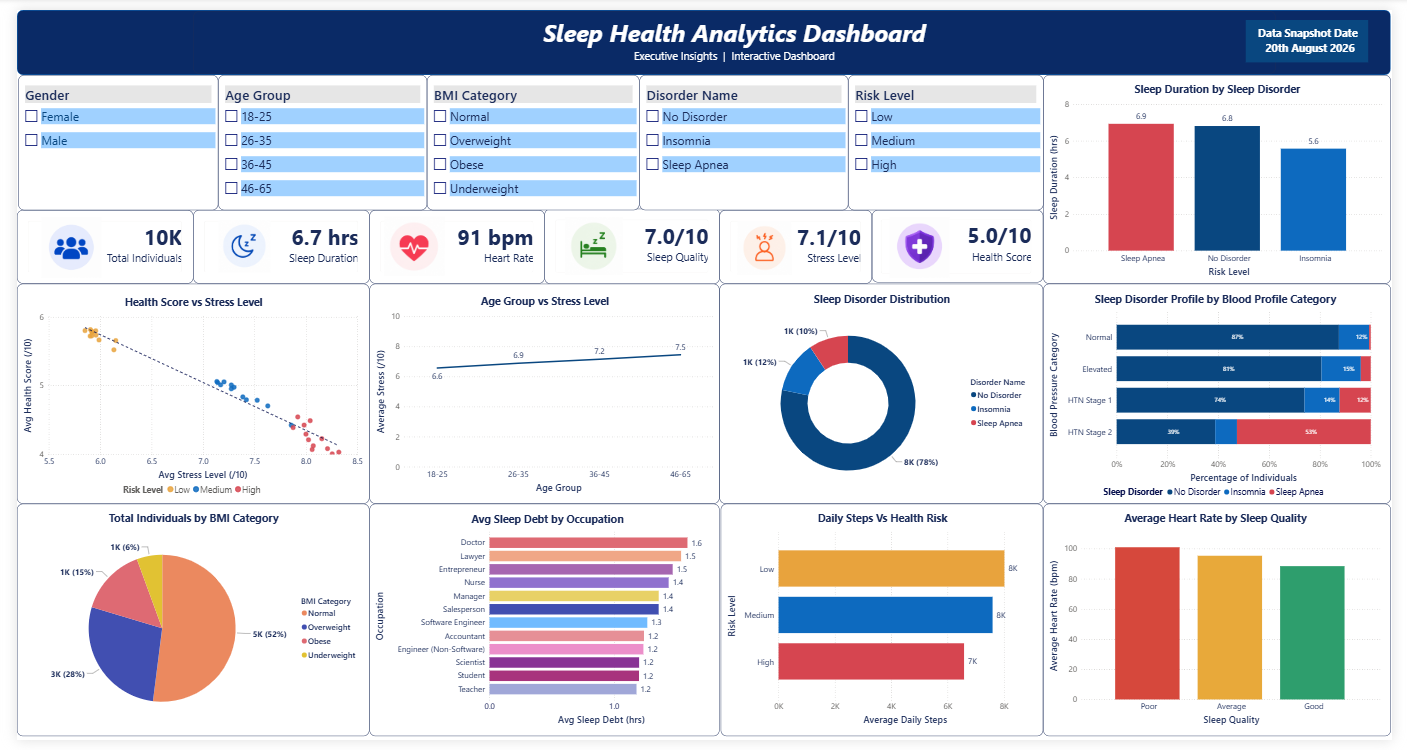

The page's visual inventory and layout, read from the dashboard file:
{"tool":"powerbi","page":{"name":"Page 1","canvas":[2750,1460],"ordinal":0},"visuals":[{"type":"cardVisual","fields":{"Data":["Fact_SleepHealth.Total Individuals"]},"box":[0,400,352.5,147.5],"z":0},{"type":"shape","box":[0,0,2747.5,130],"z":1000},{"type":"textbox","box":[352.5,2.5,2165,125],"z":2000},{"type":"donutChart","title":"Sleep Disorder Distribution","fields":{"Category":["Dim_SleepDisorder.Disorder_Name"],"Y":["Fact_SleepHealth.Total Individuals"]},"box":[1405,547.5,647.5,440],"z":3000},{"type":"clusteredBarChart","title":"Daily Steps Vs Health Risk","fields":{"Category":["Dim_HealthRiskLevel.Risk_Level_Name"],"Y":["Dim_AgeGroup.Average Daily Steps"]},"box":[1407.5,987.5,645,465],"z":4000},{"type":"lineChart","title":"Age Group vs Stress Level","fields":{"Category":["Dim_AgeGroup.Age_Group"],"Y":["Dim_AgeGroup.Average Stress"]},"box":[705,547.5,700,440],"z":5000},{"type":"pieChart","title":"Total Individuals by BMI Category","fields":{"Category":["Dim_BMI.BMI_Category"],"Y":["Fact_SleepHealth.Total Individuals"]},"box":[0,987.5,705,465],"z":6000},{"type":"columnChart","title":"Sleep Duration by Sleep Disorder","fields":{"Category":["Dim_SleepDisorder.Disorder_Name"],"Y":["Fact_SleepHealth.Avg Sleep Duration"]},"box":[2052.5,130,695,417.5],"z":7000},{"type":"cardVisual","fields":{"Data":["Dim_AgeGroup.Sleep Quality"]},"box":[1055,397.5,350,150],"z":8000},{"type":"cardVisual","fields":{"Data":["Dim_AgeGroup.Stress Level"]},"box":[1405,400,305,147.5],"z":9000},{"type":"cardVisual","fields":{"Data":["Dim_AgeGroup.Heart Rate"]},"box":[705,400,350,147.5],"z":10000},{"type":"image","box":[735,387.5,120,170],"z":11000},{"type":"image","box":[1305,422.5,380,107.5],"z":12000},{"type":"image","box":[245,602.5,107.5,102.5],"z":13000},{"type":"image","box":[40,415,137.5,120],"z":14000},{"type":"image","box":[1077.5,415,152.5,115],"z":15000},{"type":"slicer","fields":{"Values":["Dim_Gender.Gender"]},"box":[2.5,130,400,270],"z":16000},{"type":"slicer","fields":{"Values":["Dim_AgeGroup.Age_Group"]},"box":[402.5,130,417.5,270],"z":17000},{"type":"slicer","fields":{"Values":["Dim_BMI.BMI_Category"]},"box":[820,130,425,270],"z":18000},{"type":"slicer","fields":{"Values":["Dim_SleepDisorder.Disorder_Name"]},"box":[1245,130,417.5,270],"z":19000},{"type":"slicer","fields":{"Values":["Dim_HealthRiskLevel.Risk_Level_Name"]},"box":[1662.5,130,390,270],"z":20000},{"type":"textbox","box":[2457.5,20,245,85],"z":21000},{"type":"clusteredBarChart","fields":{"Y":["Fact_SleepHealth.Avg Sleep Debt"],"Category":["Dim_Occupation.Occupation"]},"box":[705,987.5,700,465],"z":22000},{"type":"scatterChart","title":"Health Score vs Stress Level","fields":{"X":["Fact_SleepHealth.Avg Stress Level"],"Y":["Fact_SleepHealth.Avg Health Score"],"Category":["Dim_Occupation.Occupation"],"Series":["Dim_HealthRiskLevel.Risk_Level_Name"]},"box":[0,547.5,705,440],"z":23000},{"type":"cardVisual","fields":{"Data":["Dim_AgeGroup.Health Score"]},"box":[1710,400,342.5,145],"z":24000},{"type":"hundredPercentStackedBarChart","title":"Sleep Disorder Profile by Blood Profile Category","fields":{"Y":["Fact_SleepHealth.Total Individuals"],"Series":["Dim_SleepDisorder.Disorder_Name"],"Category":["Dim_BPCategory.BP_Category"]},"box":[2052.5,547.5,695,440],"z":25000},{"type":"clusteredColumnChart","title":"Average Heart Rate by Sleep Quality","fields":{"Category":["Dim_SleepQuality.Quality_Category"],"Y":["Avg(Fact_SleepHealth.Heart Rate)"]},"box":[2052.5,987.5,695,465],"z":26000},{"type":"cardVisual","fields":{"Data":["Dim_AgeGroup.Sleep Duration"]},"box":[352.5,400,352.5,147.5],"z":27000},{"type":"image","box":[402.5,415,105,115],"z":28000},{"type":"image","box":[1730,415,150,120],"z":29000}]}

Visuals, with their boxes in screenshot pixels (x1, y1, x2, y2), scaled from the page's 2750x1460 canvas onto the 1407x750 screenshot:
cardVisual - Fact_SleepHealth.Total Individuals: bbox=[0, 205, 180, 281]
shape: bbox=[0, 0, 1406, 67]
textbox: bbox=[180, 1, 1288, 65]
"Sleep Disorder Distribution" donutChart: bbox=[719, 281, 1050, 507]
"Daily Steps Vs Health Risk" clusteredBarChart: bbox=[720, 507, 1050, 746]
"Age Group vs Stress Level" lineChart: bbox=[361, 281, 719, 507]
"Total Individuals by BMI Category" pieChart: bbox=[0, 507, 361, 746]
"Sleep Duration by Sleep Disorder" columnChart: bbox=[1050, 67, 1406, 281]
cardVisual - Dim_AgeGroup.Sleep Quality: bbox=[540, 204, 719, 281]
cardVisual - Dim_AgeGroup.Stress Level: bbox=[719, 205, 875, 281]
cardVisual - Dim_AgeGroup.Heart Rate: bbox=[361, 205, 540, 281]
image: bbox=[376, 199, 437, 286]
image: bbox=[668, 217, 862, 272]
image: bbox=[125, 310, 180, 362]
image: bbox=[20, 213, 91, 275]
image: bbox=[551, 213, 629, 272]
slicer - Dim_Gender.Gender: bbox=[1, 67, 206, 205]
slicer - Dim_AgeGroup.Age_Group: bbox=[206, 67, 420, 205]
slicer - Dim_BMI.BMI_Category: bbox=[420, 67, 637, 205]
slicer - Dim_SleepDisorder.Disorder_Name: bbox=[637, 67, 851, 205]
slicer - Dim_HealthRiskLevel.Risk_Level_Name: bbox=[851, 67, 1050, 205]
textbox: bbox=[1257, 10, 1383, 54]
clusteredBarChart - Fact_SleepHealth.Avg Sleep Debt x Dim_Occupation.Occupation: bbox=[361, 507, 719, 746]
"Health Score vs Stress Level" scatterChart: bbox=[0, 281, 361, 507]
cardVisual - Dim_AgeGroup.Health Score: bbox=[875, 205, 1050, 280]
"Sleep Disorder Profile by Blood Profile Category" hundredPercentStackedBarChart: bbox=[1050, 281, 1406, 507]
"Average Heart Rate by Sleep Quality" clusteredColumnChart: bbox=[1050, 507, 1406, 746]
cardVisual - Dim_AgeGroup.Sleep Duration: bbox=[180, 205, 361, 281]
image: bbox=[206, 213, 260, 272]
image: bbox=[885, 213, 962, 275]
